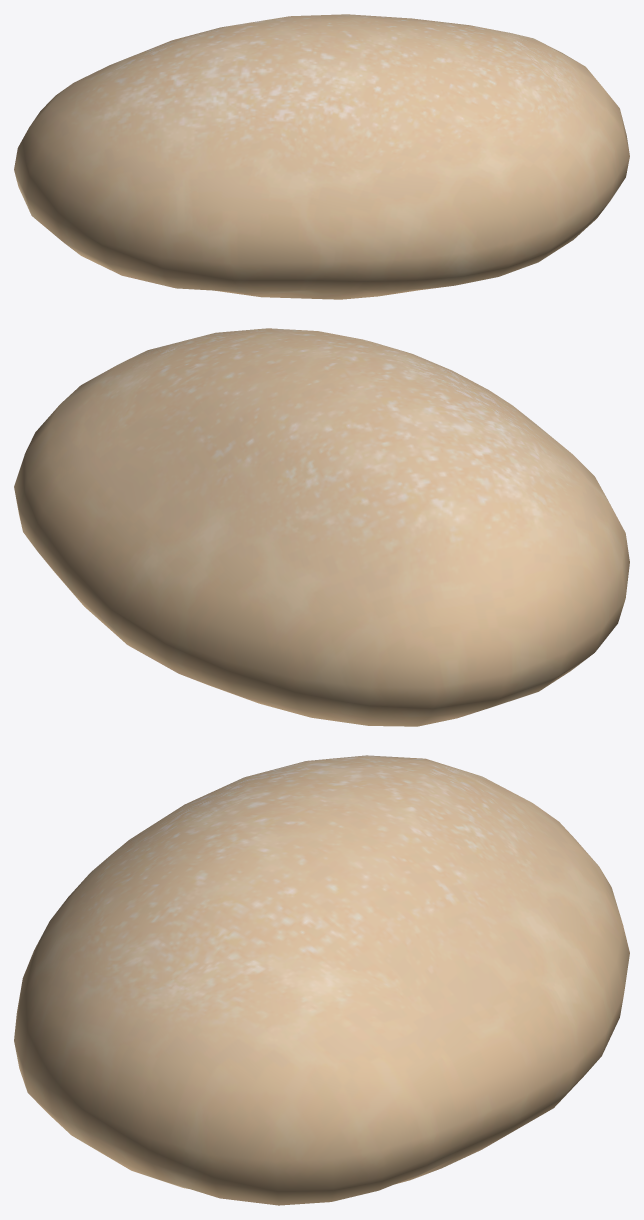
File: dough.fbx
3 views of the same model, one above another, from view 1: azimuth 30°, elevation 25°; view 2: azimuth 150°, elevation 25°; view 3: azimuth 270°, elevation 25° (orthographic). The views are drawn at different scales.
Visible parts, largest first — view 1: Object_6; view 2: Object_6; view 3: Object_6.
Boxes of the visible parts, x1,y1,x2,y2 form: Object_6: [14, 14, 629, 299]; Object_6: [14, 328, 629, 726]; Object_6: [14, 755, 629, 1205].
Size of the model in its own units: 0.4704 by 0.19 by 0.3784.
Materials: 1 (1 with a texture image).
